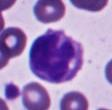L: (29, 28, 84, 84)
